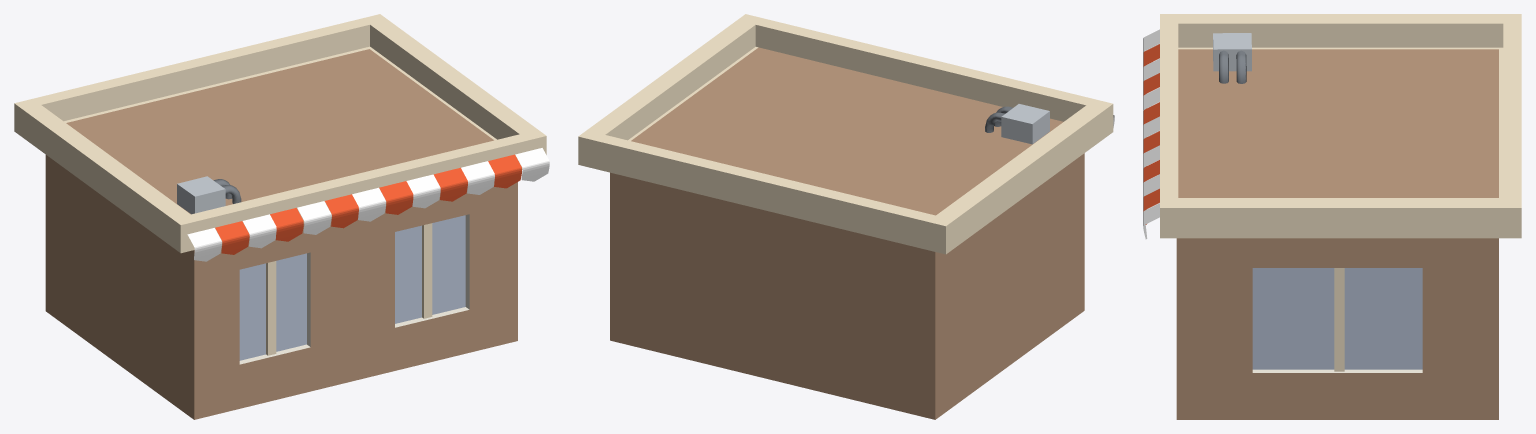
File: cafefinal2.fbx
3 renders of one model, left to right at view 1: azimuth 30°, elevation 25°; view 2: azimuth 150°, elevation 25°; view 3: azimuth 270°, elevation 25°, orthographic. The views are drawn at different scales.
Visible parts, largest first — view 1: polySurface430; view 2: polySurface430; view 3: polySurface430.
Boxes of the visible parts, left/top/right/bottom form: polySurface430: left=14, top=14, right=549, bottom=419; polySurface430: left=578, top=14, right=1114, bottom=419; polySurface430: left=1143, top=14, right=1521, bottom=419.
Size of the model in its own units: 3.49 by 1.89 by 2.88.
